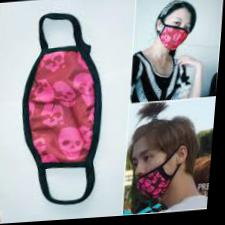OK: (163, 20, 193, 54)
WRONG: (130, 146, 176, 204)
